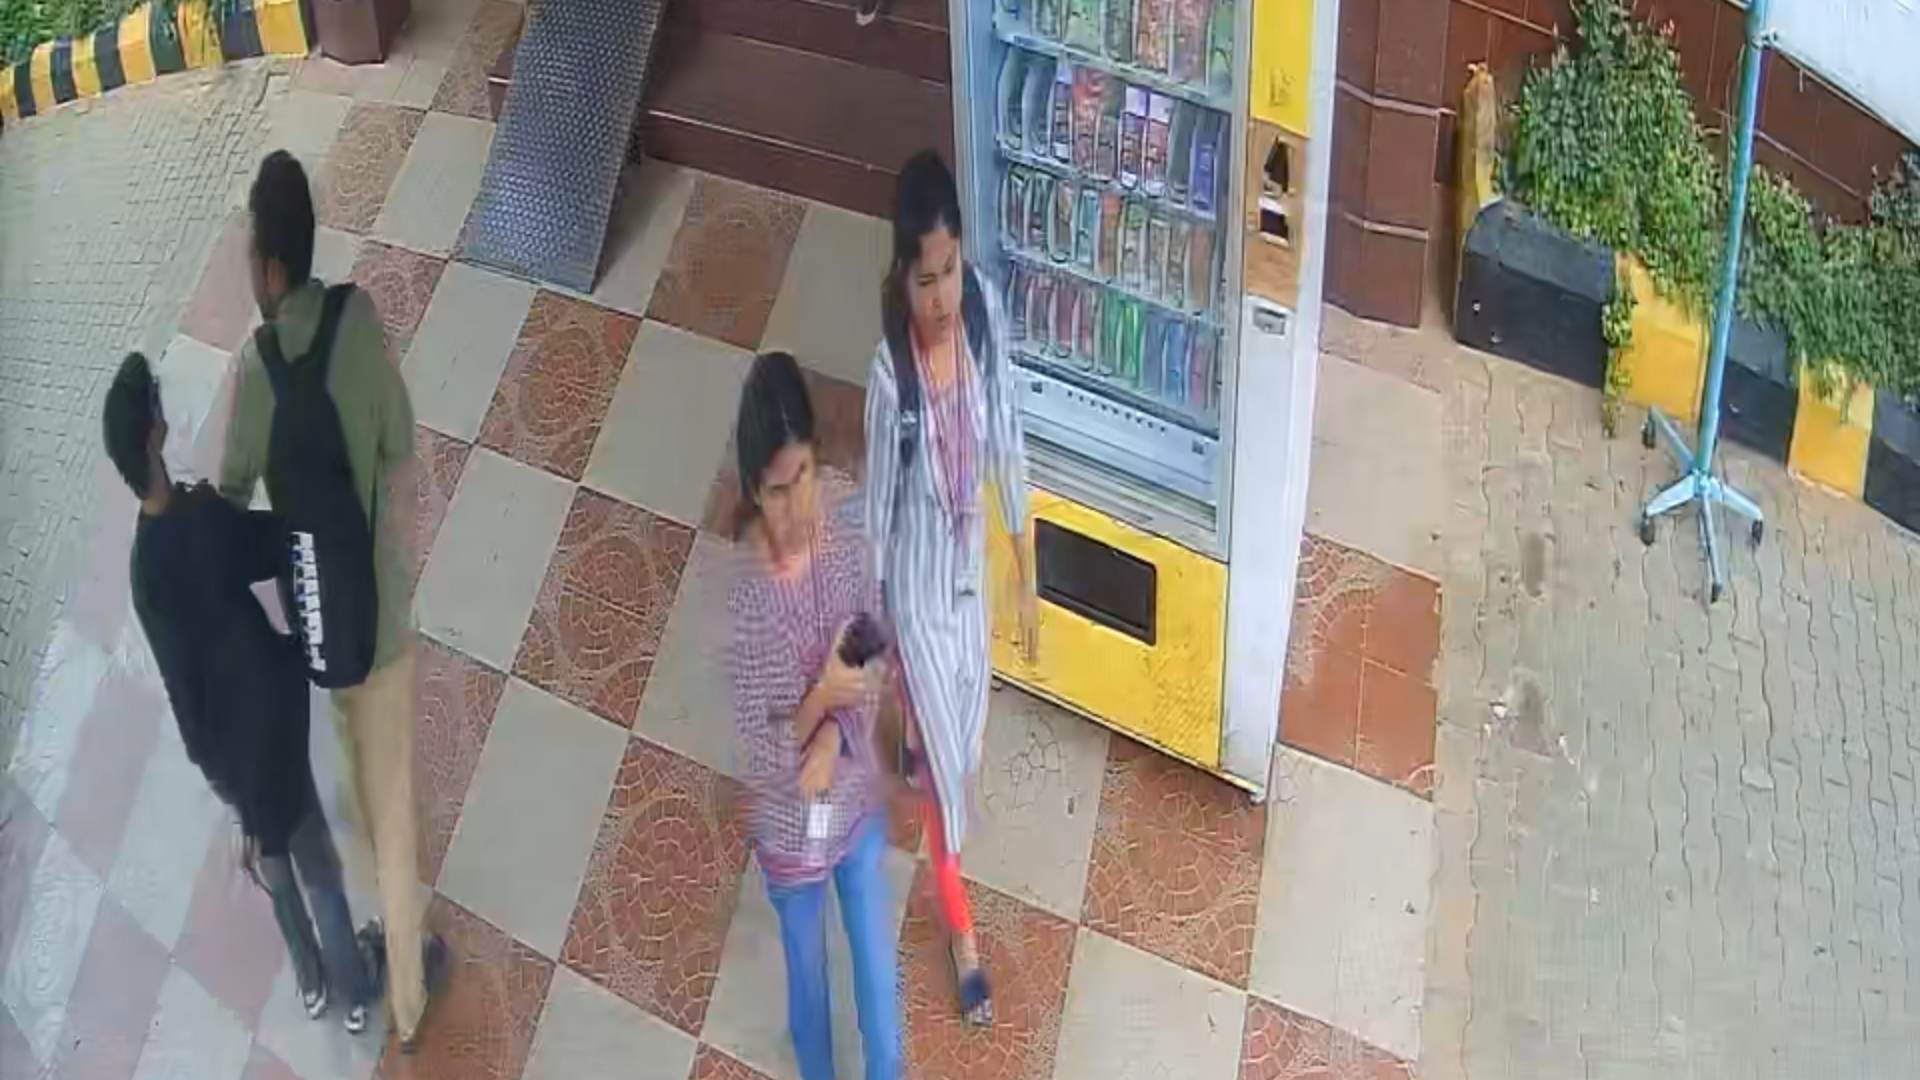not intruder: (866, 116, 1050, 1079), (704, 347, 924, 1080)
